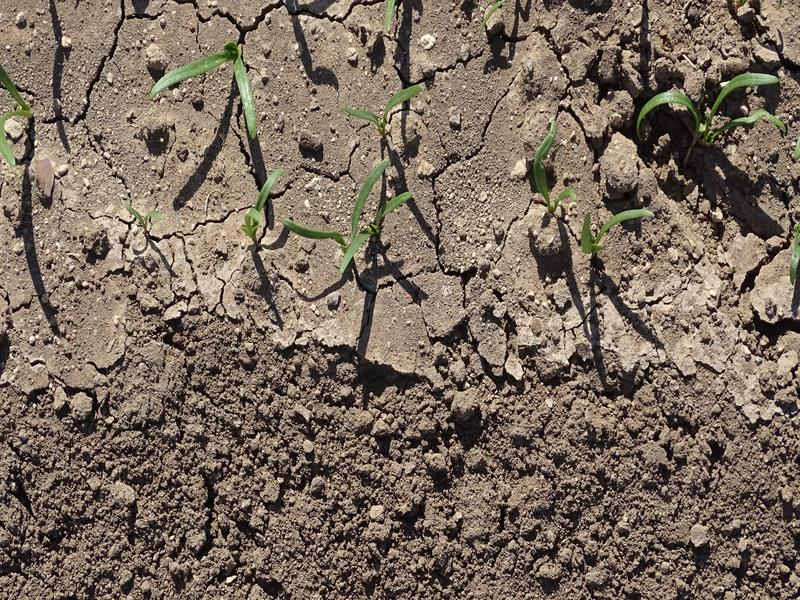Espinaca: (281, 158, 411, 270), (153, 44, 264, 140), (628, 70, 775, 142), (530, 128, 576, 209), (342, 85, 422, 130), (579, 211, 650, 256), (1, 72, 32, 169), (240, 174, 281, 239)
